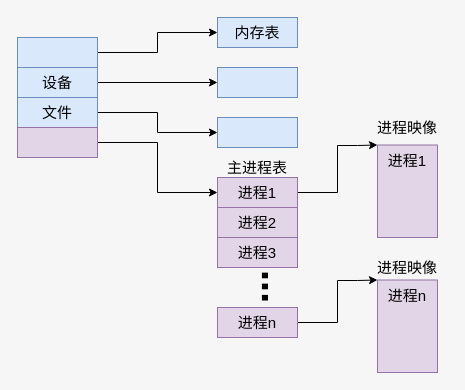
The diagram is 465 pixels wide and 390 high, and some of its shapes have lost their labels. Each missing label, with the centre of its shape:
"IO表" goes at point (257, 82).
"内存" goes at point (57, 52).
"文件表" goes at point (257, 132).
"进程" goes at point (57, 142).
